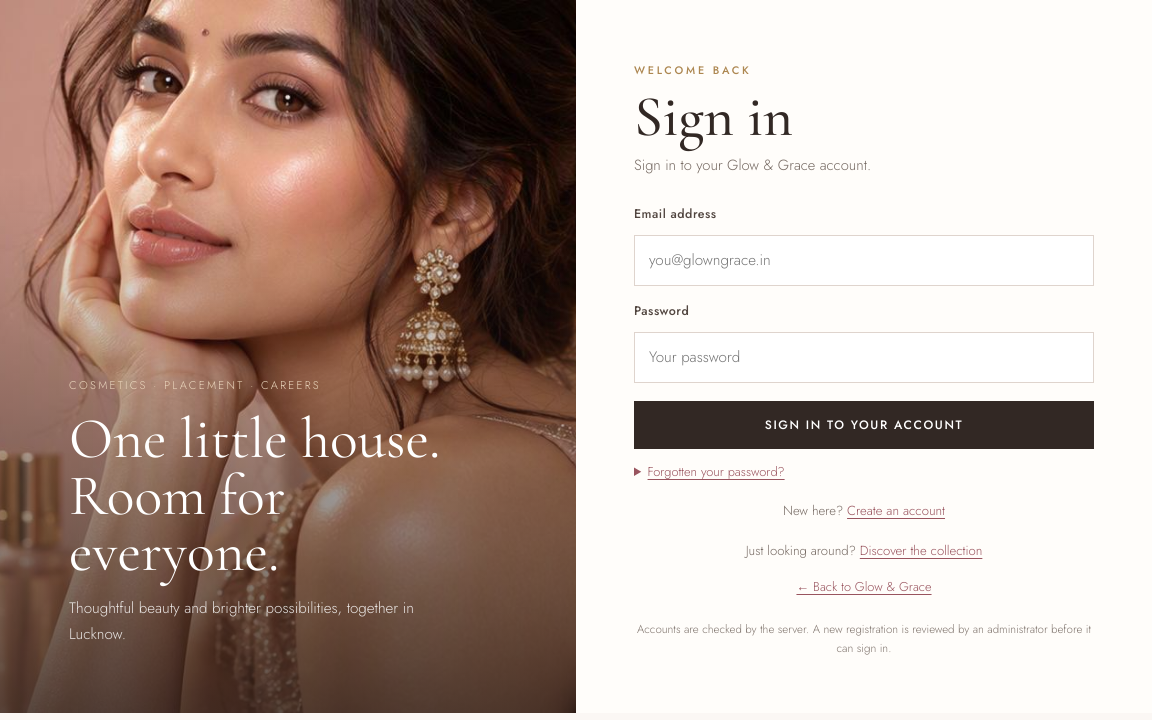
Test: forgotten password and reset › shows what the server said rather than inventing a reason
Type "deepak@glowngrace.in" into the field labelled "Email address" at (864, 260), box [634,235,1094,286]
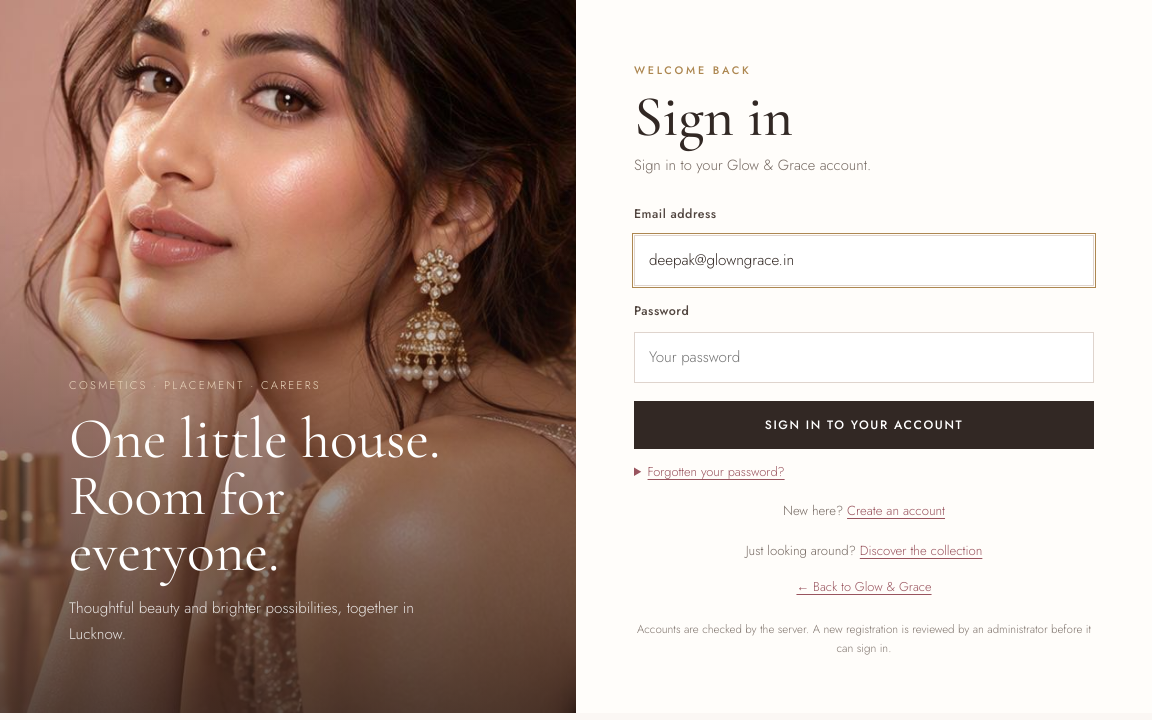
Type "the-wrong-password" into the password field labelled "Password" at (864, 358), box [634,332,1094,383]
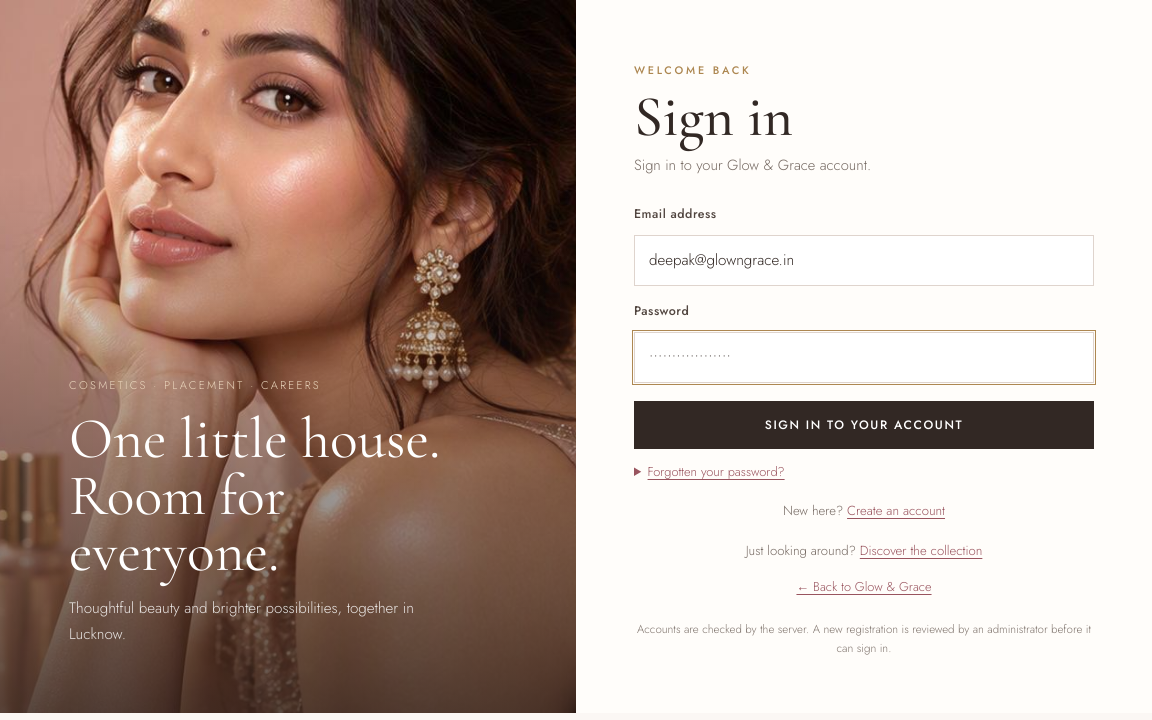
Click the button "Sign in to your account" at (864, 426), box [634,402,1094,450]
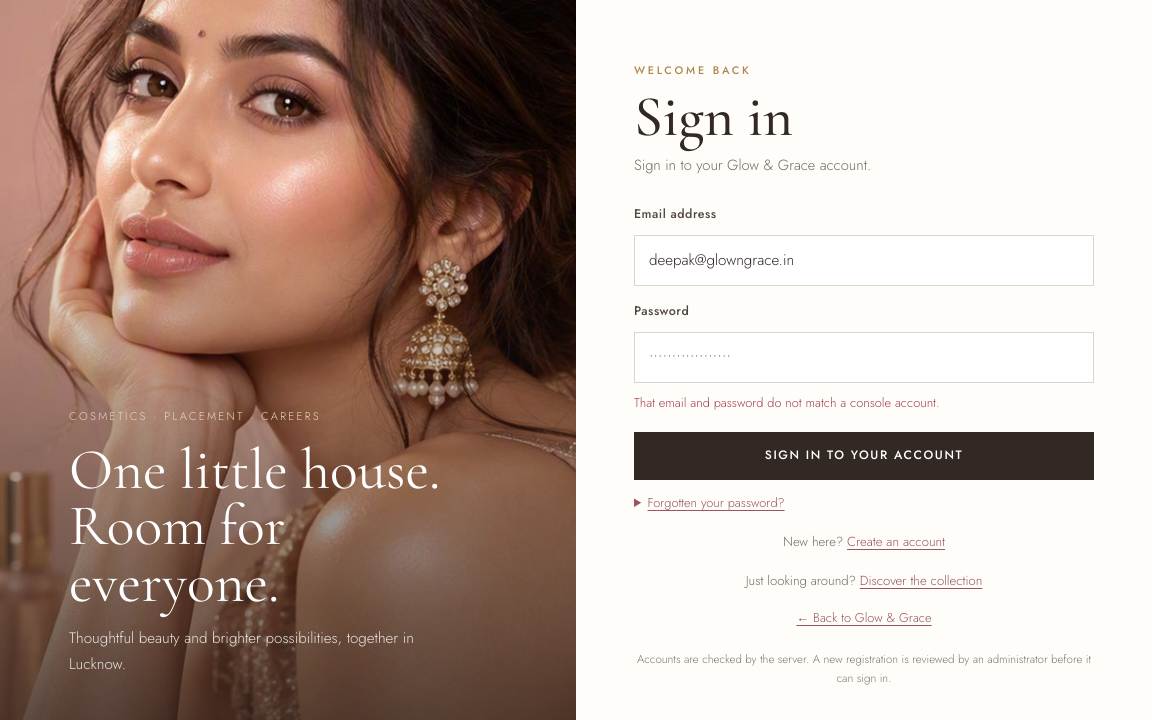
Check: the message does not show "demo account", box [634,394,940,412]
Check: the message reads "That email and password do not match a console account.", box [634,394,940,412]
